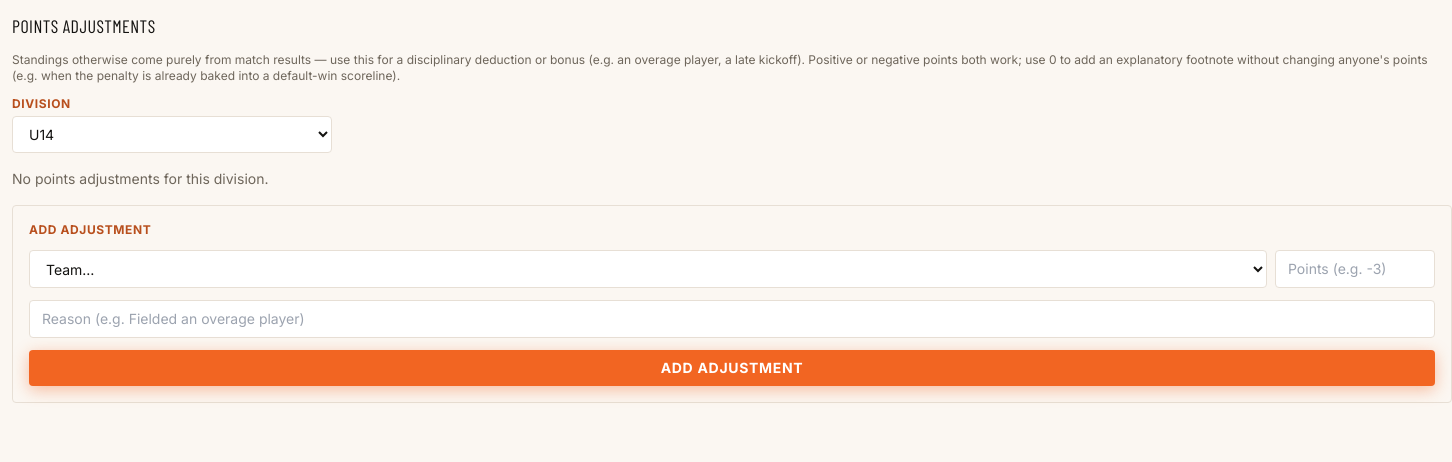
Test: allows a zero points value, for a footnote-only note with no points impact
Check: the text "No points adjustments for this division." is shown, box [12,170,268,187]
Select "New Generation FC" in the 2nd dropdown: (648, 269) [29,250,1267,288]
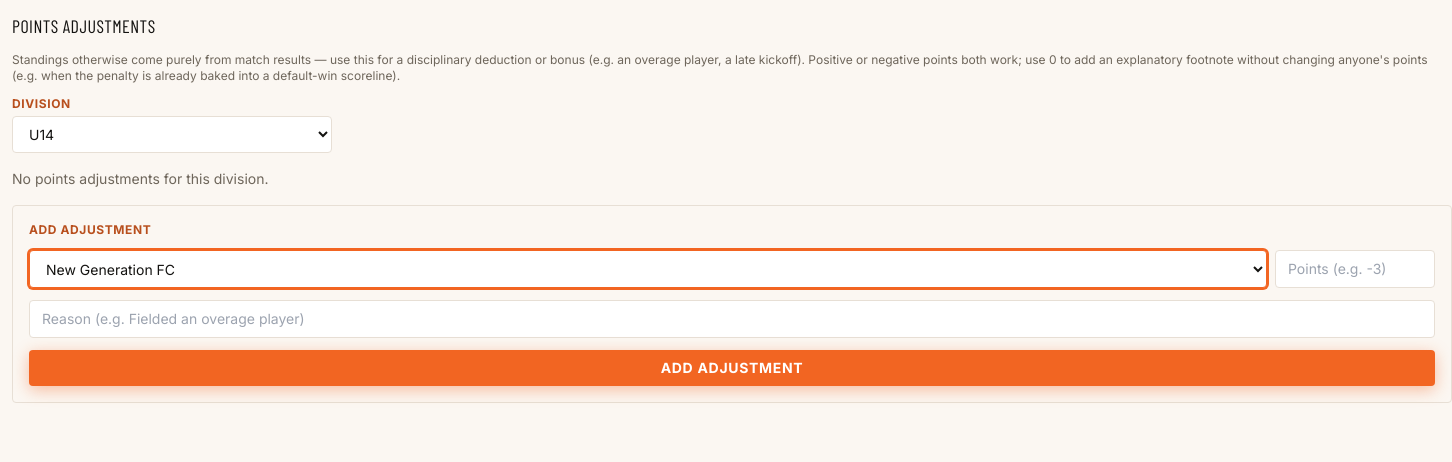
In the number field with placeholder "Points (e.g. -3)": (1355, 269) [1275,250,1435,288], type "0"
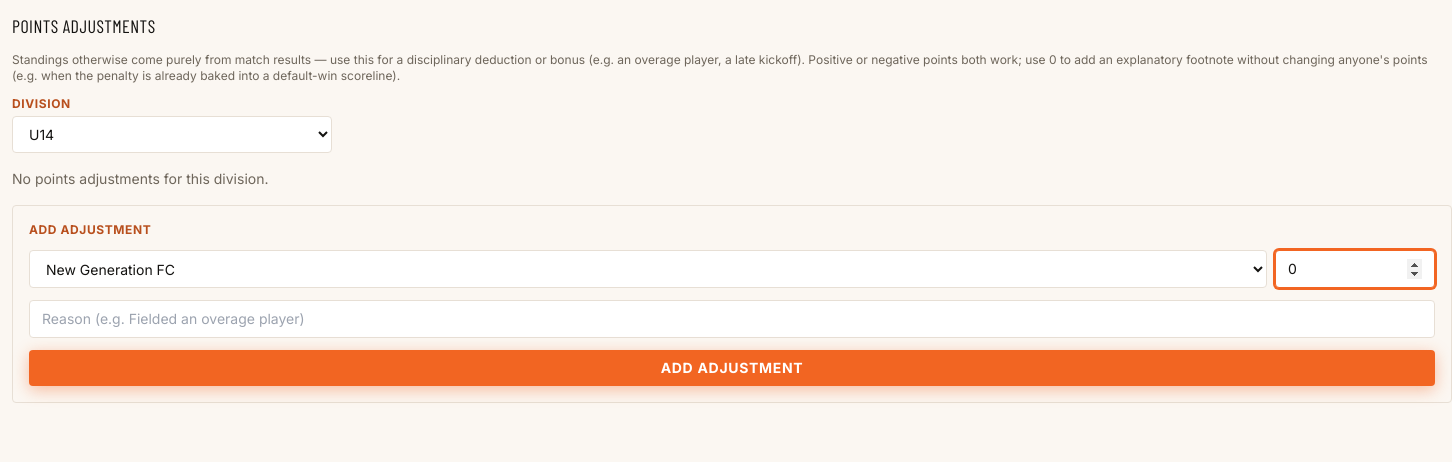
In the field with placeholder "Reason (e.g. Fielded an overage player)": (732, 319) [29,300,1435,338], type "Default loss awarded, no further deduction"
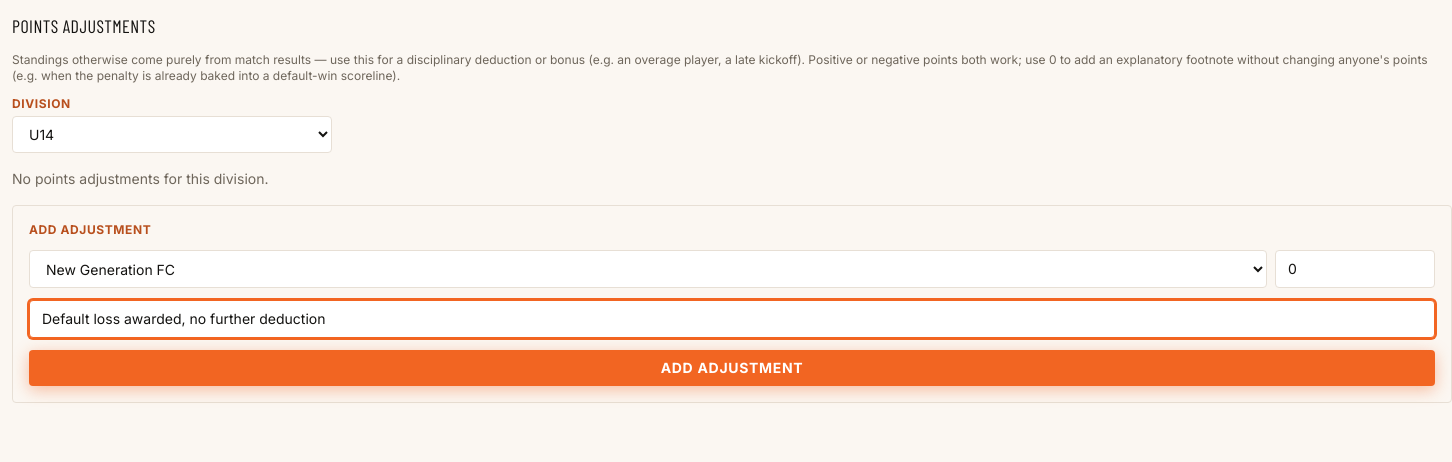
Click the button "Add Adjustment": (732, 368) [29,350,1435,386]
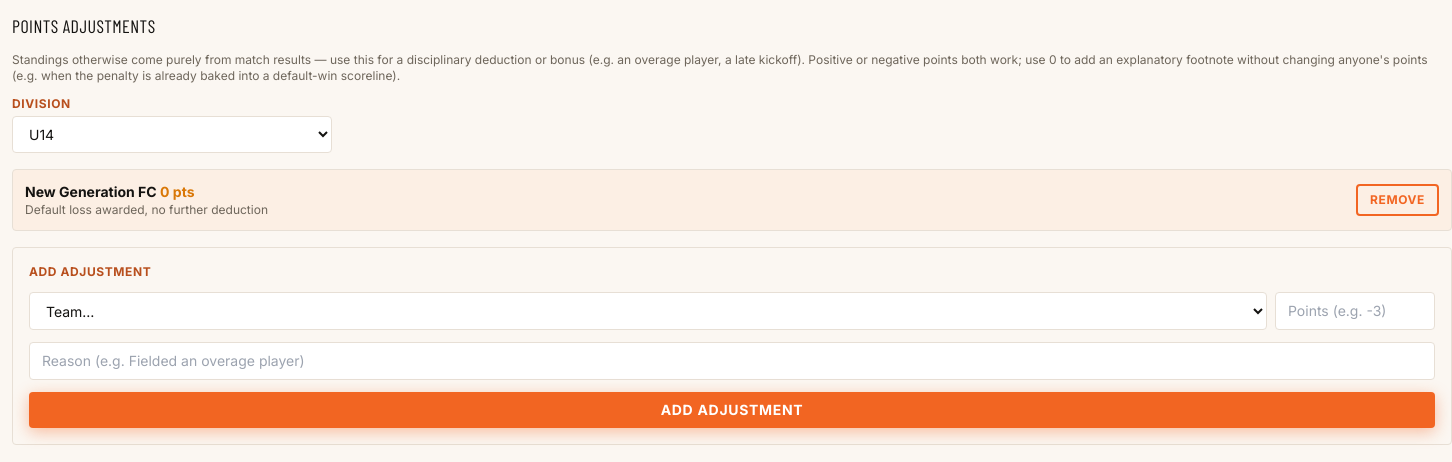
Check: the text "Default loss awarded, no further deduction" shows "0 pts", box [25,182,268,218]
